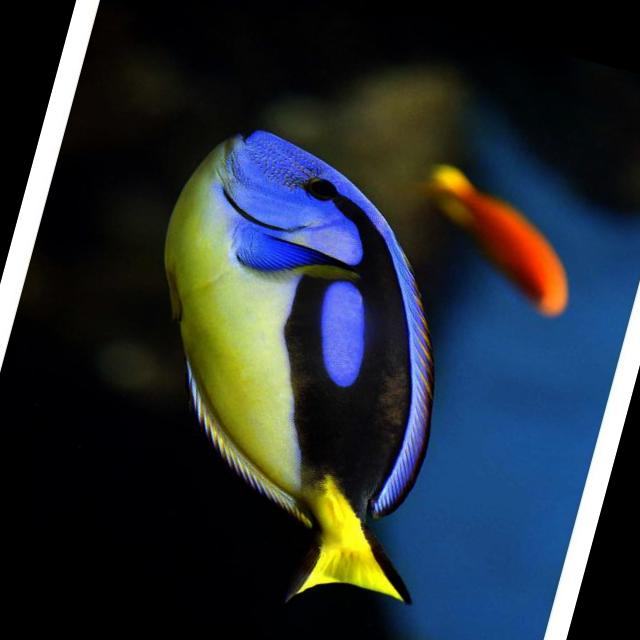BlueTang: (91, 116, 512, 604)
